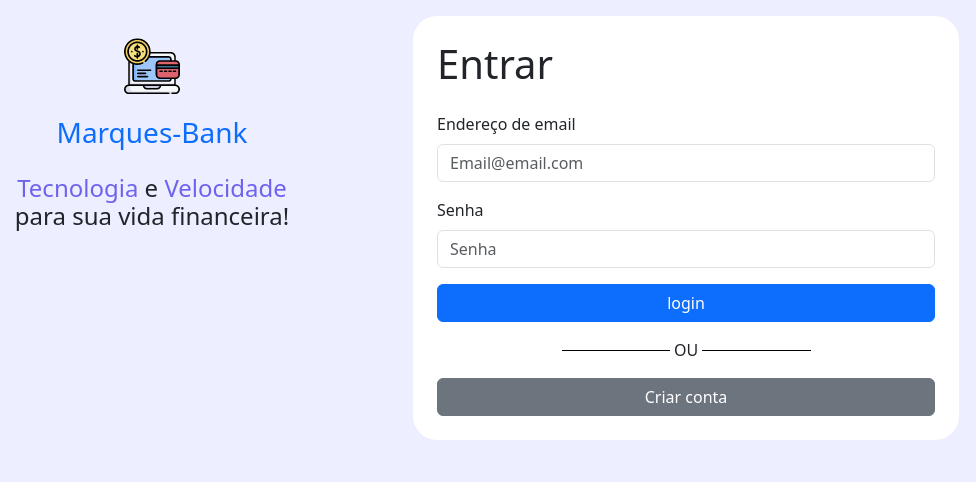
Login screen › Not should be able to login without valid password
The width and height of the screenshot is (976, 482).
Type "correctEmail@email.com" into the field labelled "Endereço de email".
click(686, 163); type("correctEmail@email.com")  # box [437, 144, 935, 182]
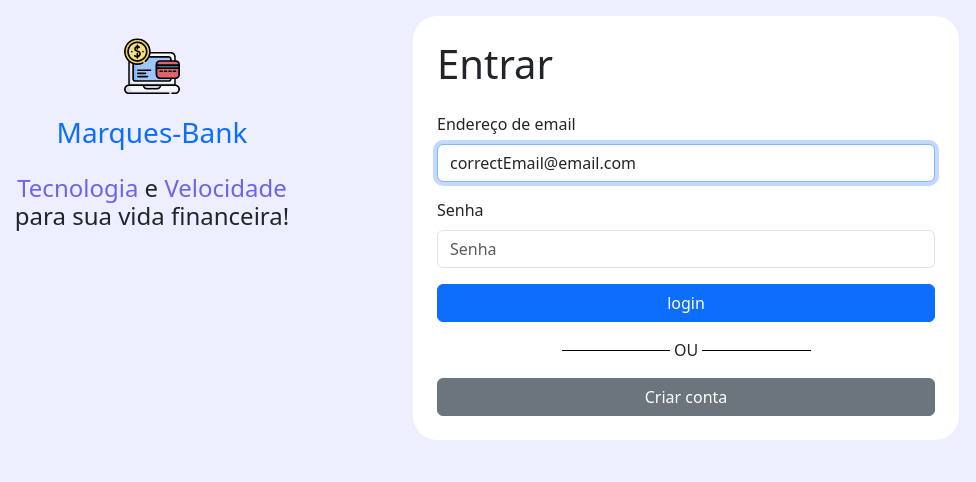
Click the button "login".
click(686, 303)  # box [437, 284, 935, 322]
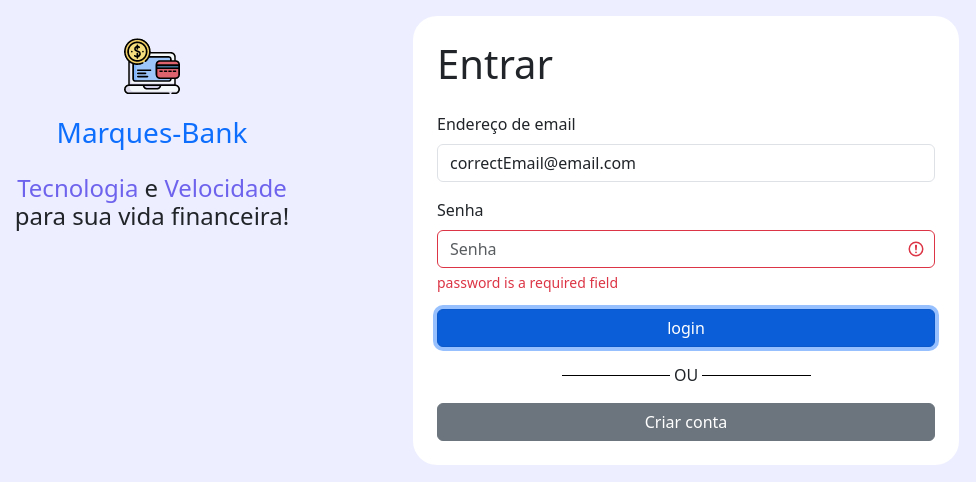
expect the text "password is a required field" is shown: met, box [437, 273, 618, 292]
